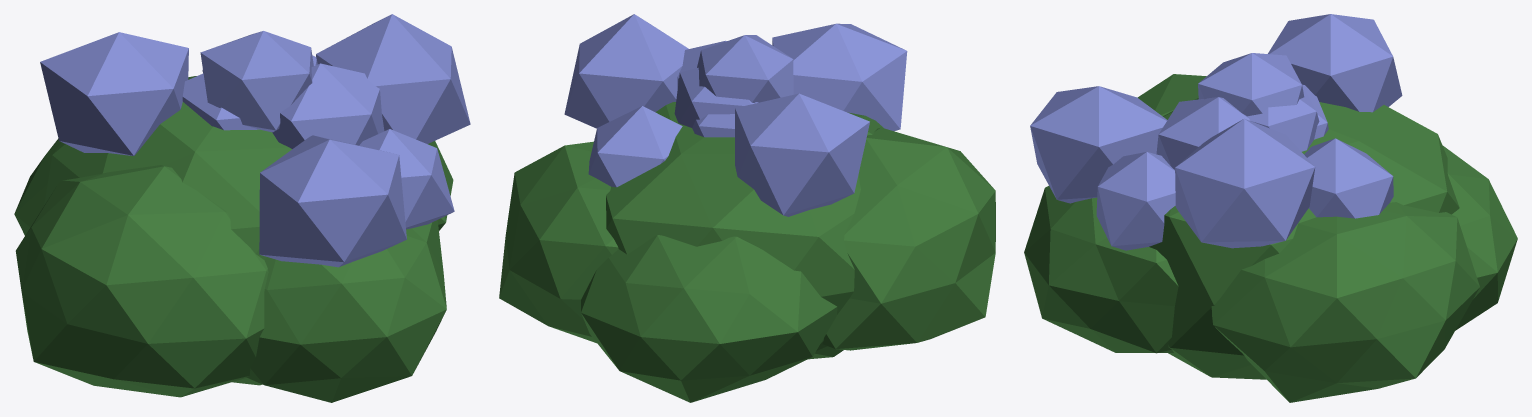
File: hydrangea.fbx
The picture shows the model from 3 angles, left to right: view 1: azimuth 30°, elevation 25°; view 2: azimuth 150°, elevation 25°; view 3: azimuth 270°, elevation 25°; orthographic projection. The views are drawn at different scales.
Parts seen in each view (by area): view 1: Hydrangea_Leaf, Hydrangea_Bloom; view 2: Hydrangea_Leaf, Hydrangea_Bloom; view 3: Hydrangea_Leaf, Hydrangea_Bloom.
Boxes of the visible parts, <box> form: Hydrangea_Leaf: <box>14,76,453,402</box>; Hydrangea_Bloom: <box>40,14,470,267</box>; Hydrangea_Leaf: <box>499,102,995,402</box>; Hydrangea_Bloom: <box>564,14,907,216</box>; Hydrangea_Leaf: <box>1024,74,1517,402</box>; Hydrangea_Bloom: <box>1030,14,1402,250</box>.
Size of the model in its own units: 2.97 by 2.03 by 3.01.
